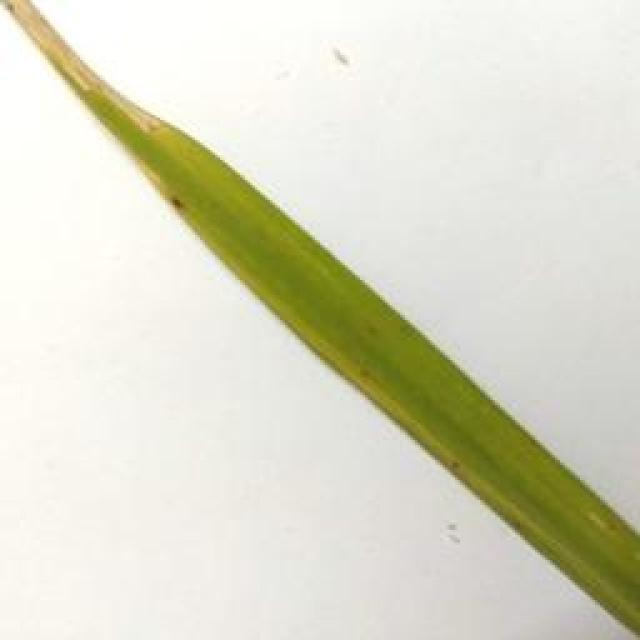Bacterial_Blight: (0, 0, 183, 140), (572, 503, 640, 556)
Brown_Spot: (344, 361, 378, 390), (444, 450, 470, 484), (172, 194, 194, 212)
